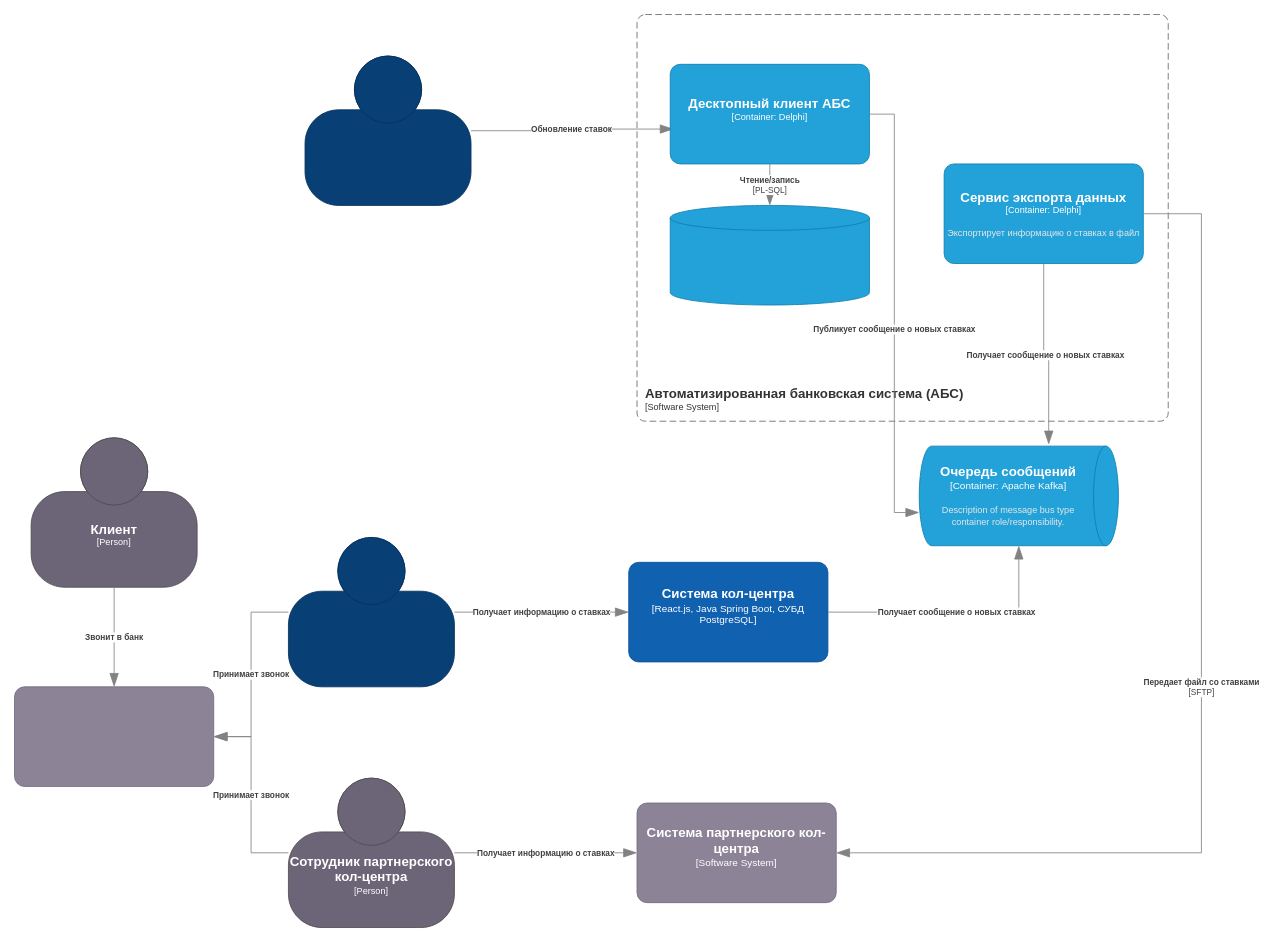
The diagram is 1274 pixels wide and 942 high, and some of its shapes have lost their labels. The centre of each missing label's shape, as x and y in pixels:
БД АБС [Container: Oracle]: (769,255)
Сотрудник кол-центра [Person]: (371,612)
Сотрудник отдела депозитных продуктов [Person] Бэк-офис: (387,130)
Телеком оператор [Software System]: (114,736)
